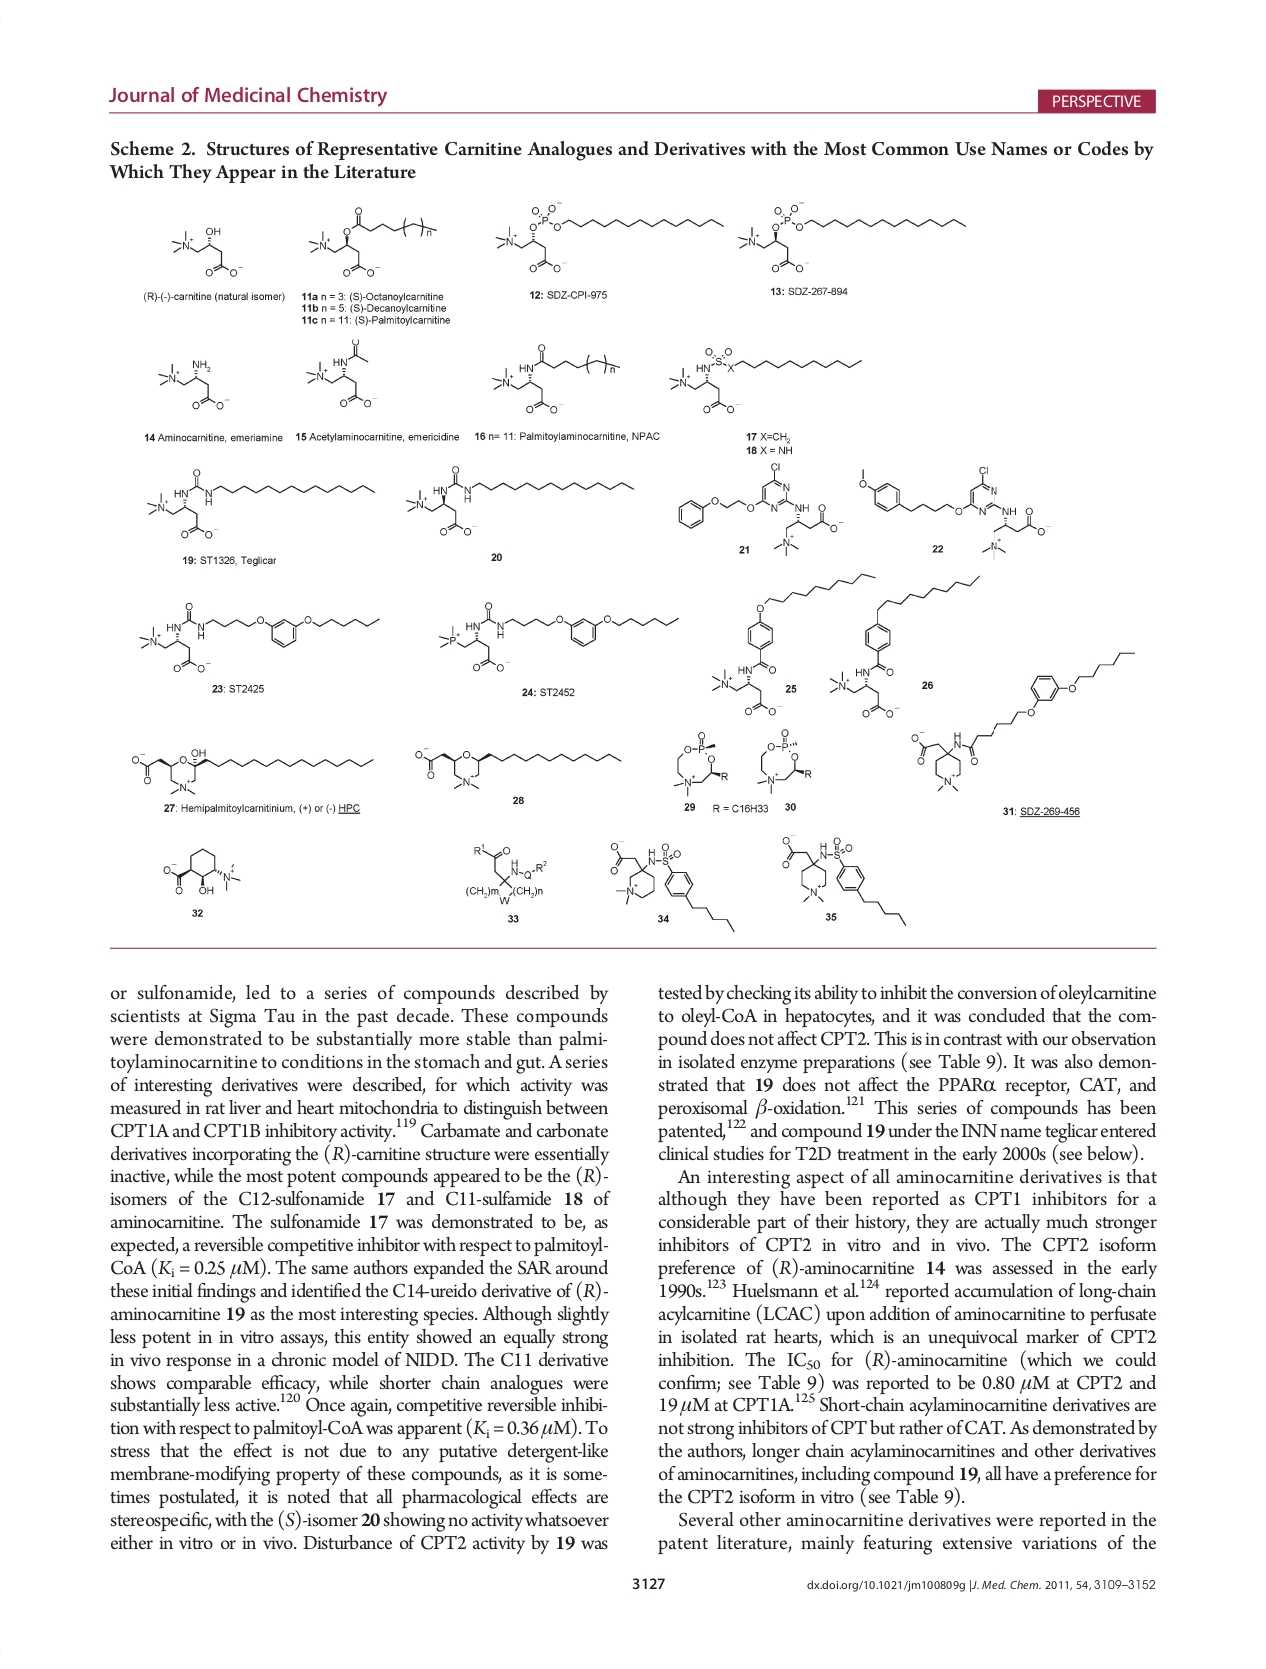exist_molecular: (911, 650, 1136, 795), (707, 572, 876, 717), (827, 575, 981, 719), (856, 465, 1047, 563), (138, 598, 382, 673), (435, 600, 684, 672), (403, 464, 637, 539), (489, 199, 723, 273), (144, 465, 376, 539), (735, 199, 967, 273), (677, 461, 847, 559), (666, 344, 864, 415), (778, 833, 912, 932), (606, 839, 741, 936), (128, 747, 379, 797), (411, 743, 625, 790), (306, 207, 440, 278), (489, 343, 622, 414), (463, 840, 553, 907), (305, 336, 372, 414), (170, 226, 247, 283), (670, 731, 733, 799), (160, 847, 243, 896), (158, 356, 225, 415), (755, 726, 814, 793)
